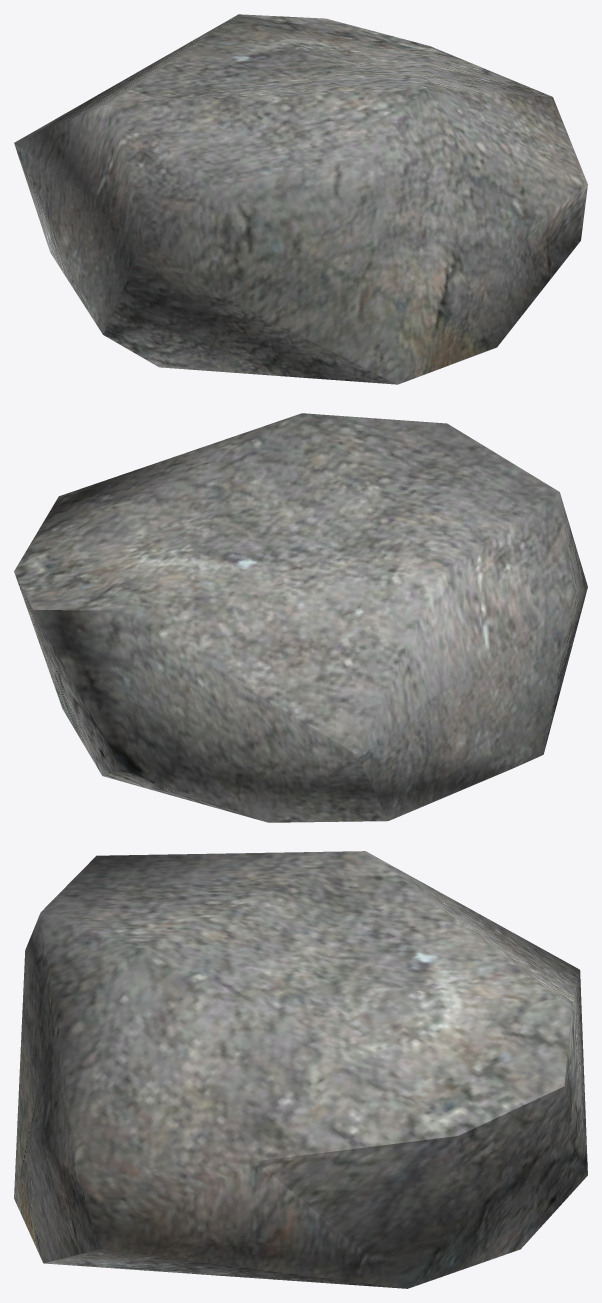
File: rock4.glb
The picture shows the model from 3 angles, top to bottom: view 1: azimuth 30°, elevation 25°; view 2: azimuth 150°, elevation 25°; view 3: azimuth 270°, elevation 25°; orthographic projection. The views are drawn at different scales.
Visible parts, largest first — view 1: rock4; view 2: rock4; view 3: rock4.
Part boxes in pixels (x1=…): rock4: x1=14, y1=14, x2=587, y2=384; rock4: x1=14, y1=413, x2=587, y2=822; rock4: x1=14, y1=851, x2=587, y2=1288.
Size of the model in its own units: 2.24 by 1.18 by 2.02.
Materials: 1 (1 with a texture image).
